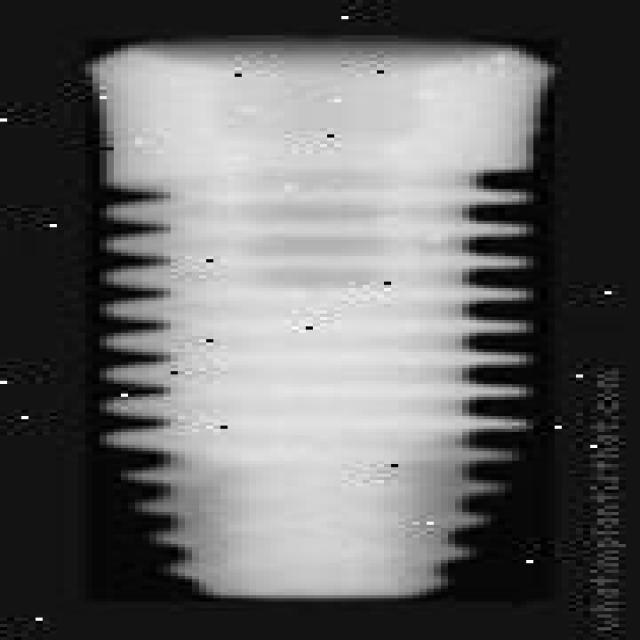Osstem Implant: (80, 37, 555, 605)
